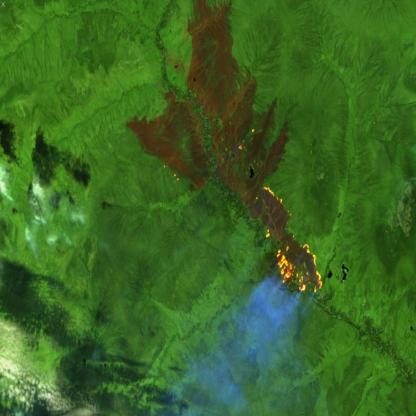fire: (255, 181, 327, 298)
